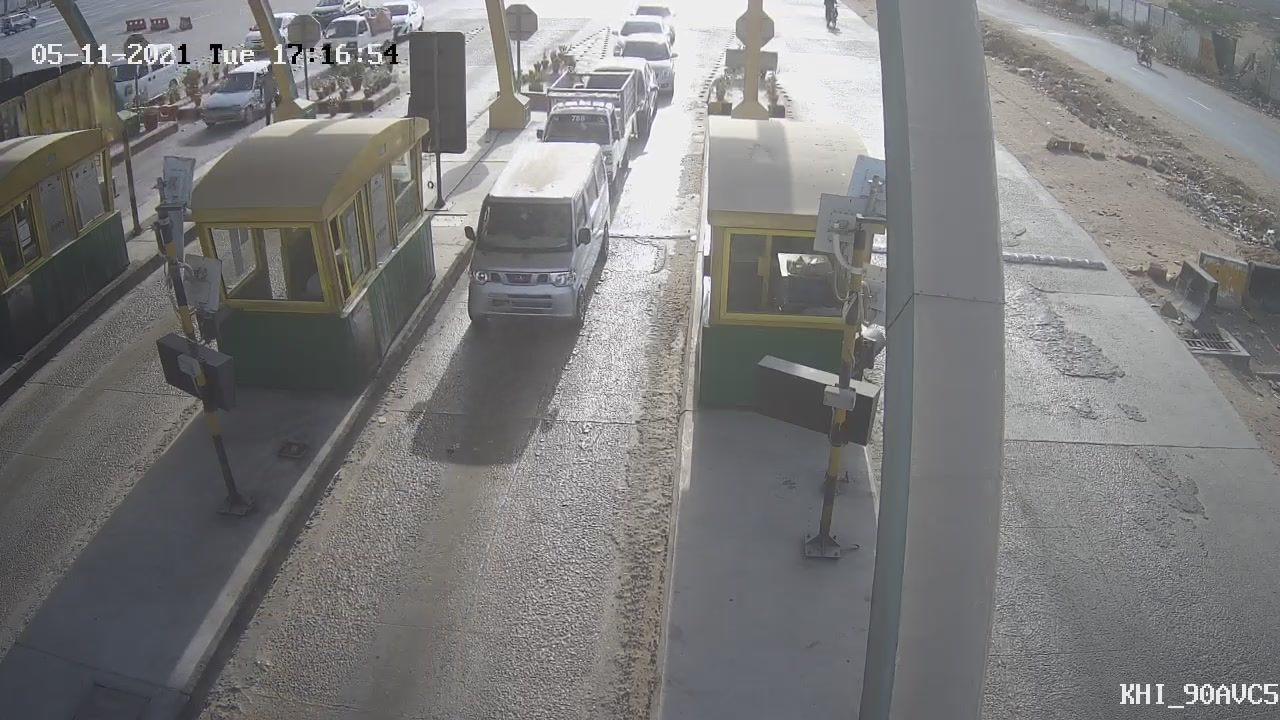F1: (447, 126, 625, 344)
